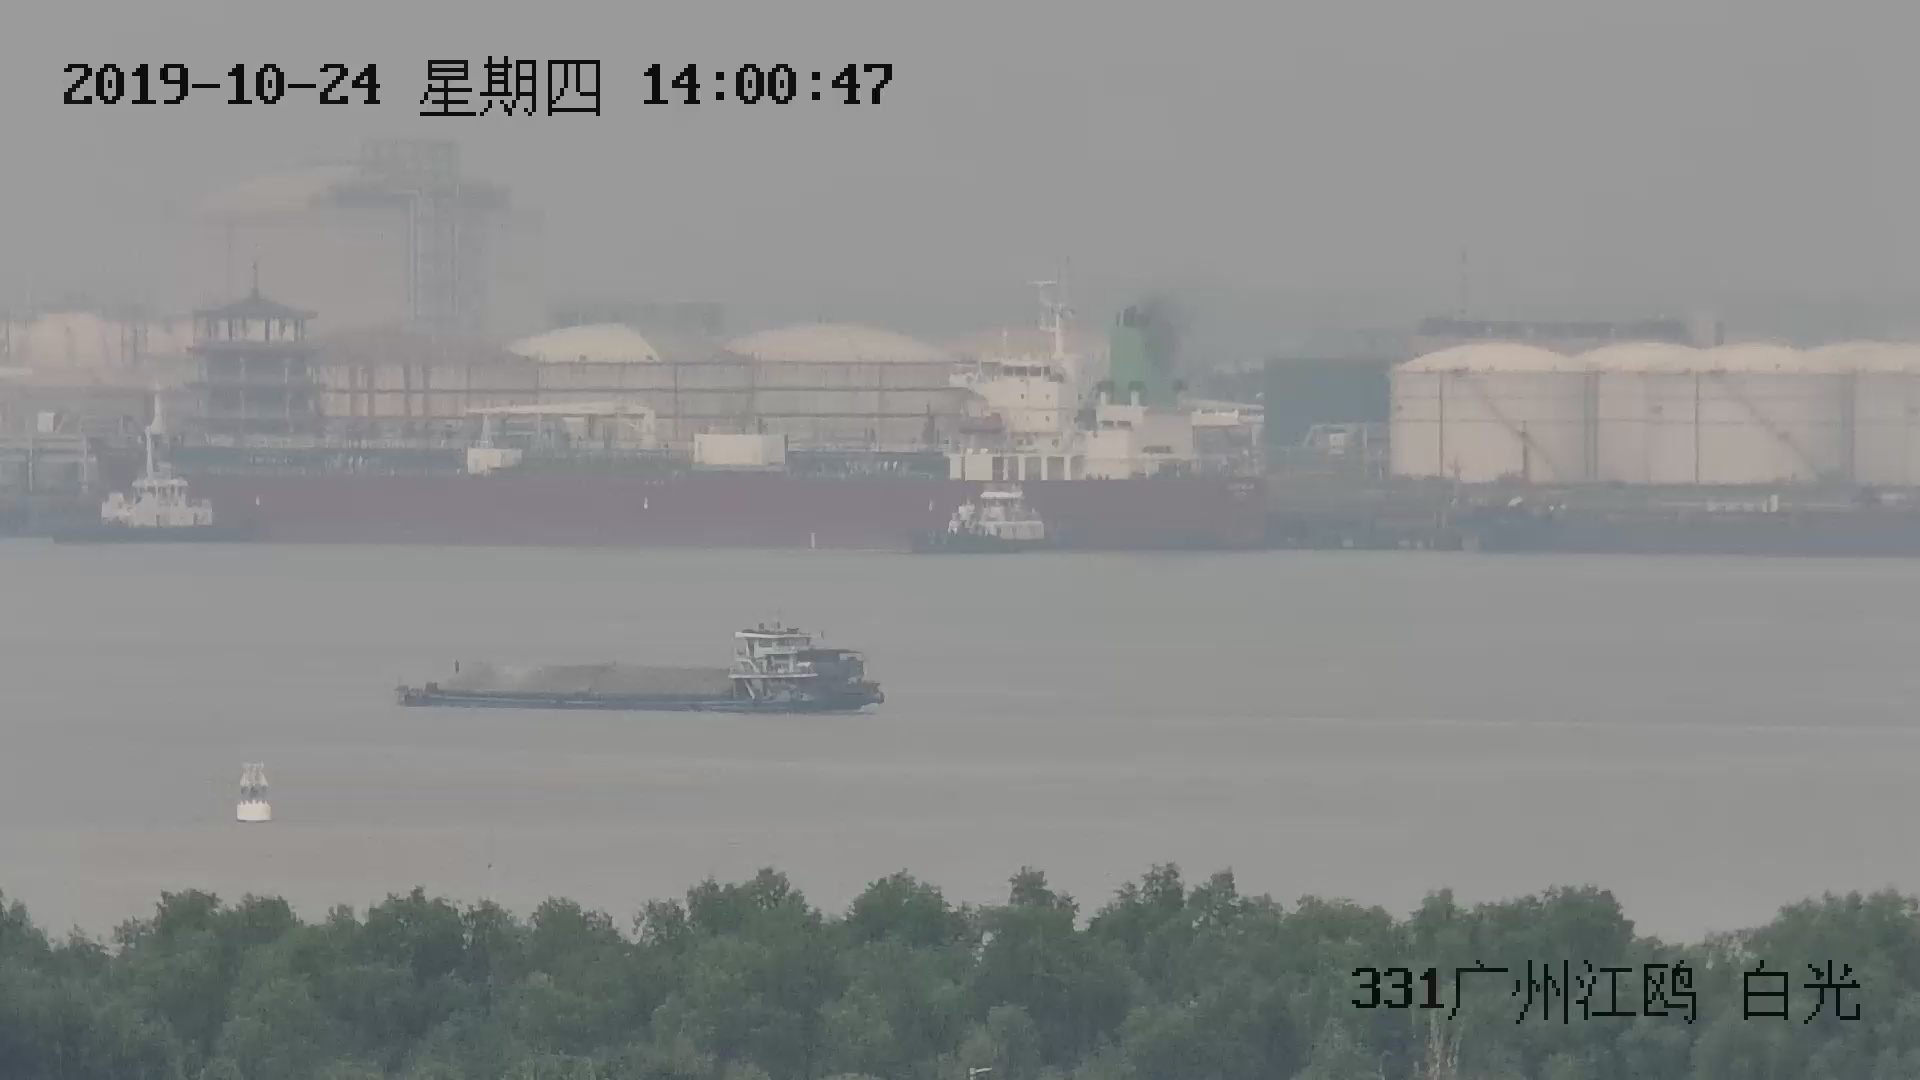ship: (393, 620, 884, 712)
